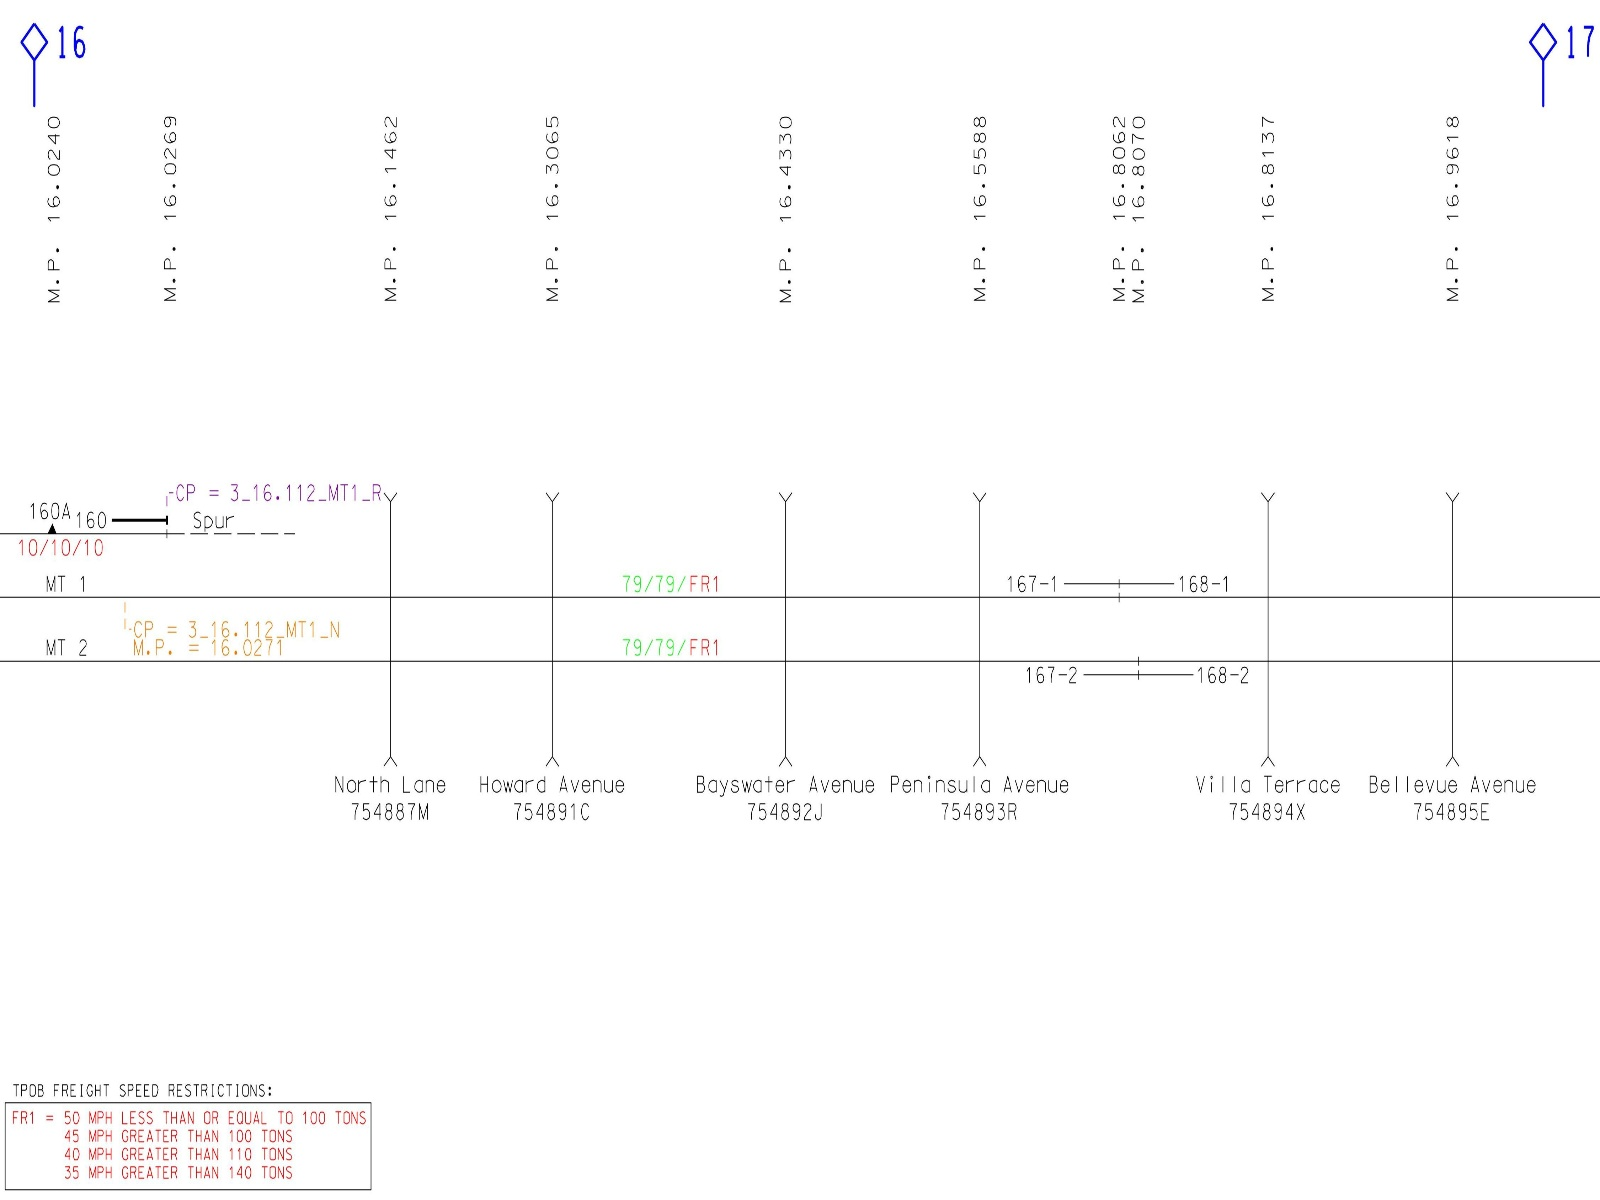crossover: (751, 488, 823, 776), (358, 489, 430, 776), (519, 487, 591, 774), (945, 487, 1017, 774), (1235, 485, 1306, 773), (1419, 487, 1490, 774)
crossoverLabel: (1364, 766, 1560, 839), (689, 771, 884, 839), (886, 768, 1081, 836), (1170, 768, 1366, 836), (475, 770, 631, 834), (323, 771, 464, 832)
milepost: (18, 106, 105, 319), (130, 103, 217, 316), (348, 102, 435, 315), (508, 100, 595, 313), (942, 106, 1029, 319), (1089, 103, 1175, 316), (1227, 103, 1314, 316), (1411, 101, 1498, 314), (748, 105, 835, 316)
rightsignal: (73, 507, 175, 542)
